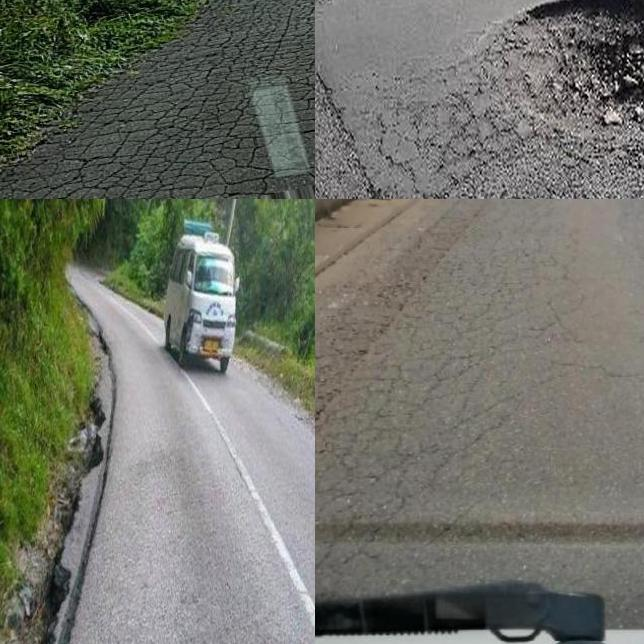Lubang: (496, 0, 644, 131)
Pinggir: (10, 335, 135, 644)
Retak Buaya: (315, 266, 530, 579), (0, 0, 315, 199)
